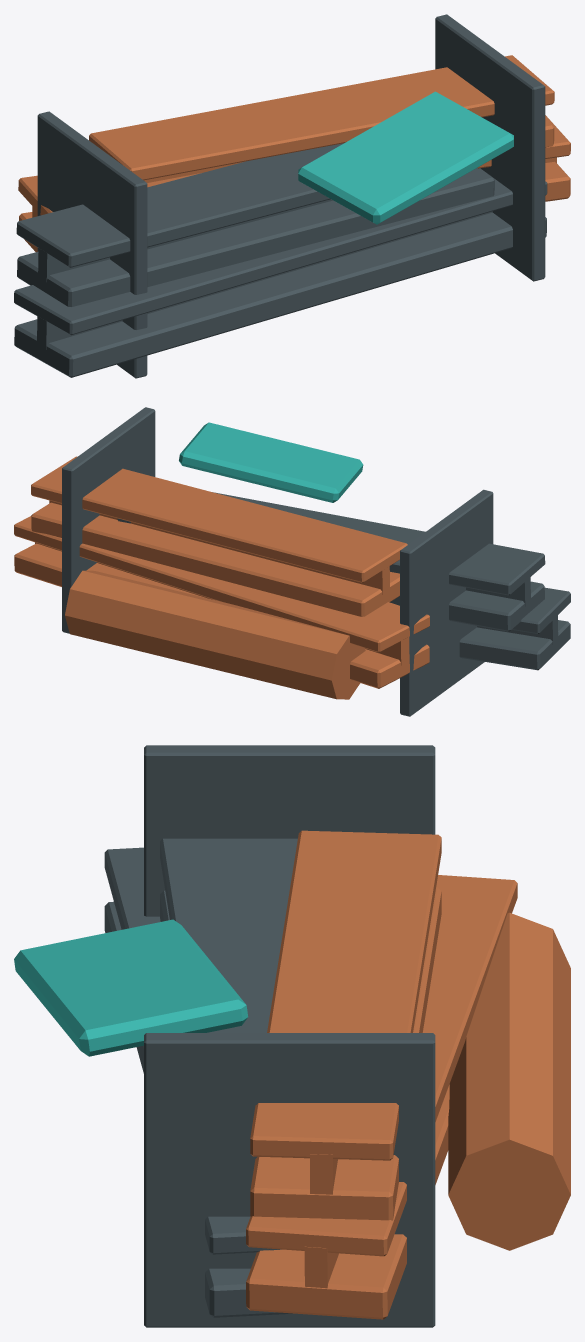
Rendered from SM_ScrapStack.fbx.
3 renders of one model, top to bottom at view 1: azimuth 30°, elevation 25°; view 2: azimuth 150°, elevation 25°; view 3: azimuth 270°, elevation 25°, orthographic. The views are drawn at different scales.
Parts seen in each view (by area): view 1: SM_ScrapStack; view 2: SM_ScrapStack; view 3: SM_ScrapStack.
Boxes of the visible parts, x1,y1,x2,y2 form: SM_ScrapStack: (14,14,570,378); SM_ScrapStack: (14,407,570,716); SM_ScrapStack: (14,745,570,1327).
Bounding box in the file's own units: 1.91 × 1.09 × 0.62.
